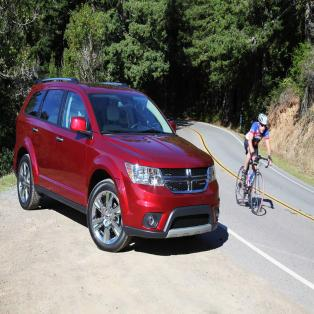Auto: (14, 77, 220, 252)
